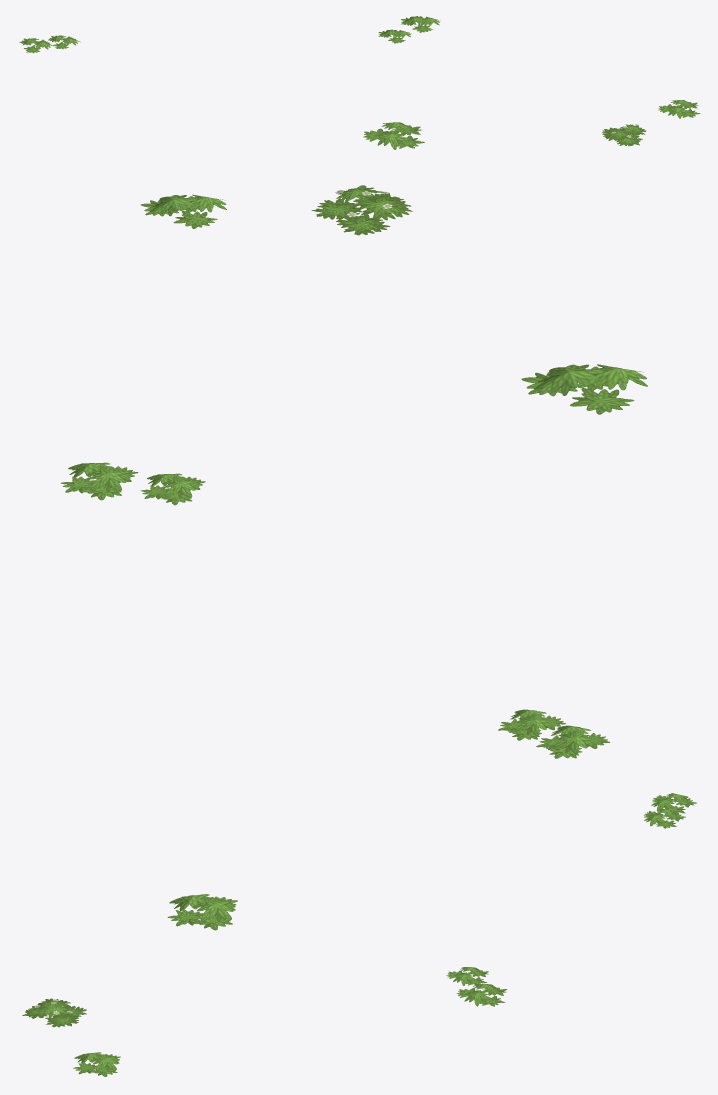
The model's file is Area_12_34.fbx.
The picture shows the model from 3 angles, top to bottom: view 1: azimuth 30°, elevation 25°; view 2: azimuth 150°, elevation 25°; view 3: azimuth 270°, elevation 25°; orthographic projection. The views are drawn at different scales.
Parts seen in each view (by area): view 1: Area_12_34; view 2: Area_12_34; view 3: Area_12_34.
Boxes of the visible parts, x1,y1,x2,y2 form: Area_12_34: (19, 16, 700, 149); Area_12_34: (60, 185, 647, 758); Area_12_34: (22, 793, 696, 1076).
Size of the model in its own units: 2277 by 69.76 by 2324.
